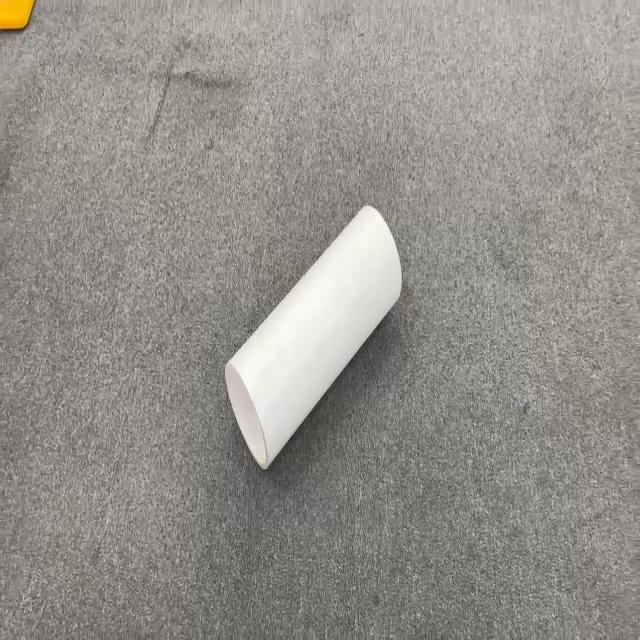coral: (224, 203, 402, 470)
